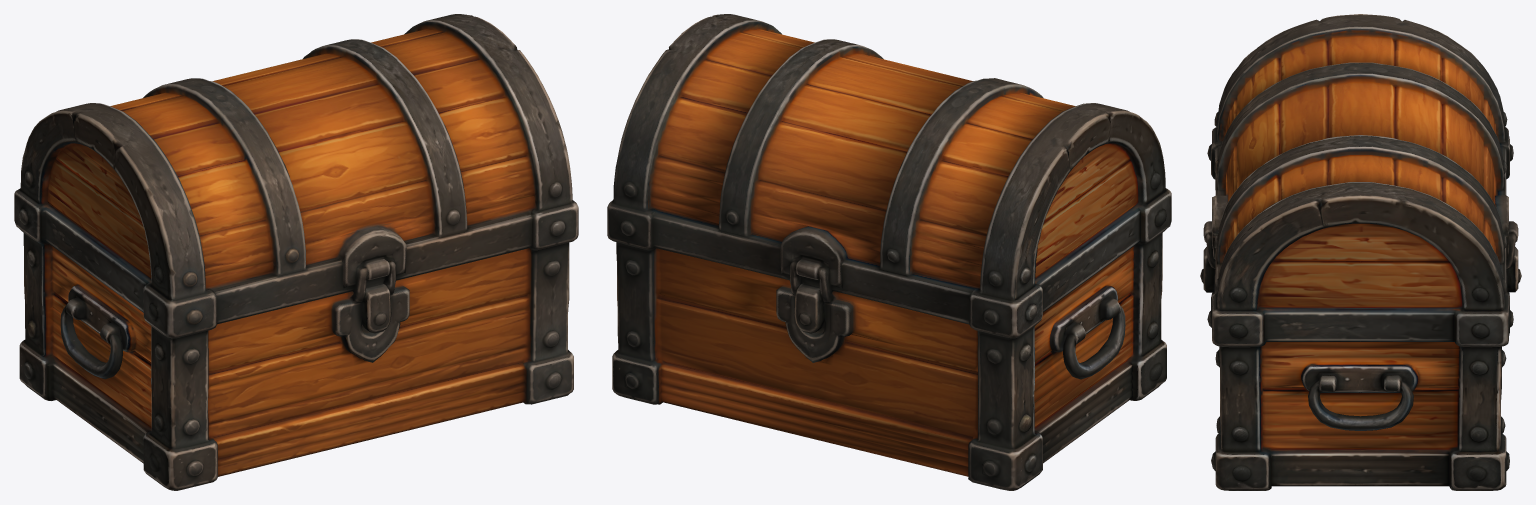
File: chest.glb
3 renders of one model, left to right at view 1: azimuth 30°, elevation 25°; view 2: azimuth 150°, elevation 25°; view 3: azimuth 270°, elevation 25°, orthographic. The views are drawn at different scales.
Visible parts, largest first — view 1: tripo_node_a0158304-0781-41a3-96c2-c5a25349e2b0; view 2: tripo_node_a0158304-0781-41a3-96c2-c5a25349e2b0; view 3: tripo_node_a0158304-0781-41a3-96c2-c5a25349e2b0.
Part boxes in pixels (bbox=[...]): tripo_node_a0158304-0781-41a3-96c2-c5a25349e2b0: bbox=[14, 14, 578, 490]; tripo_node_a0158304-0781-41a3-96c2-c5a25349e2b0: bbox=[607, 14, 1171, 490]; tripo_node_a0158304-0781-41a3-96c2-c5a25349e2b0: bbox=[1200, 14, 1521, 490].
Size of the model in its own units: 0.9776 by 0.6868 by 0.6791.
1 material, 1 textured.
